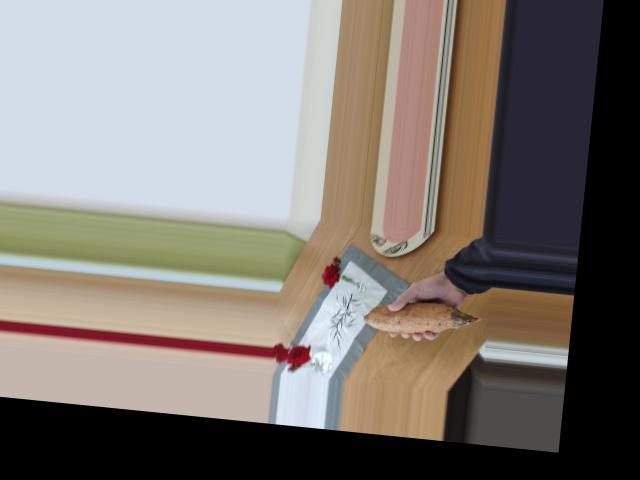sweet_potato: (359, 285, 472, 344)
